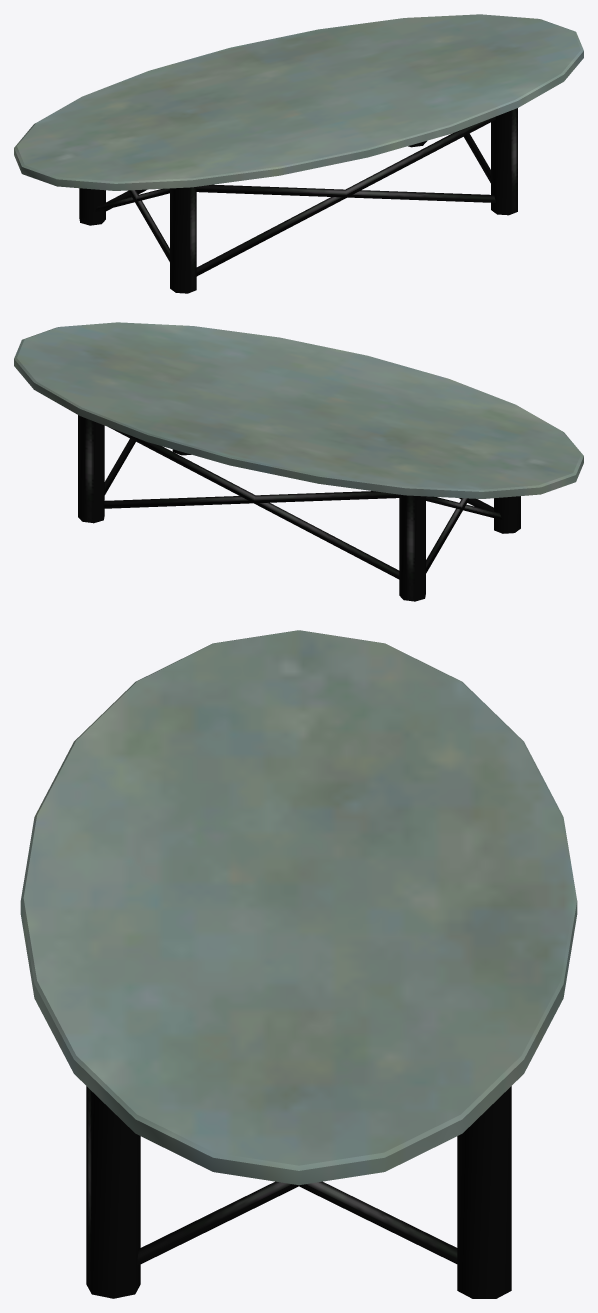
The model's file is glass_table.fbx.
3 renders of one model, top to bottom at view 1: azimuth 30°, elevation 25°; view 2: azimuth 150°, elevation 25°; view 3: azimuth 270°, elevation 25°, orthographic. The views are drawn at different scales.
Parts seen in each view (by area): view 1: mesh_0, mesh_1; view 2: mesh_0, mesh_1; view 3: mesh_0, mesh_1.
Boxes of the visible parts, x1,y1,x2,y2 form: mesh_0: (14, 14, 583, 190); mesh_1: (79, 108, 517, 293); mesh_0: (14, 322, 583, 498); mesh_1: (78, 415, 520, 601); mesh_0: (20, 630, 577, 1185); mesh_1: (86, 1086, 511, 1298).
Bounding box in the file's own units: 138 × 27.75 × 60.
1 material, 1 textured.
